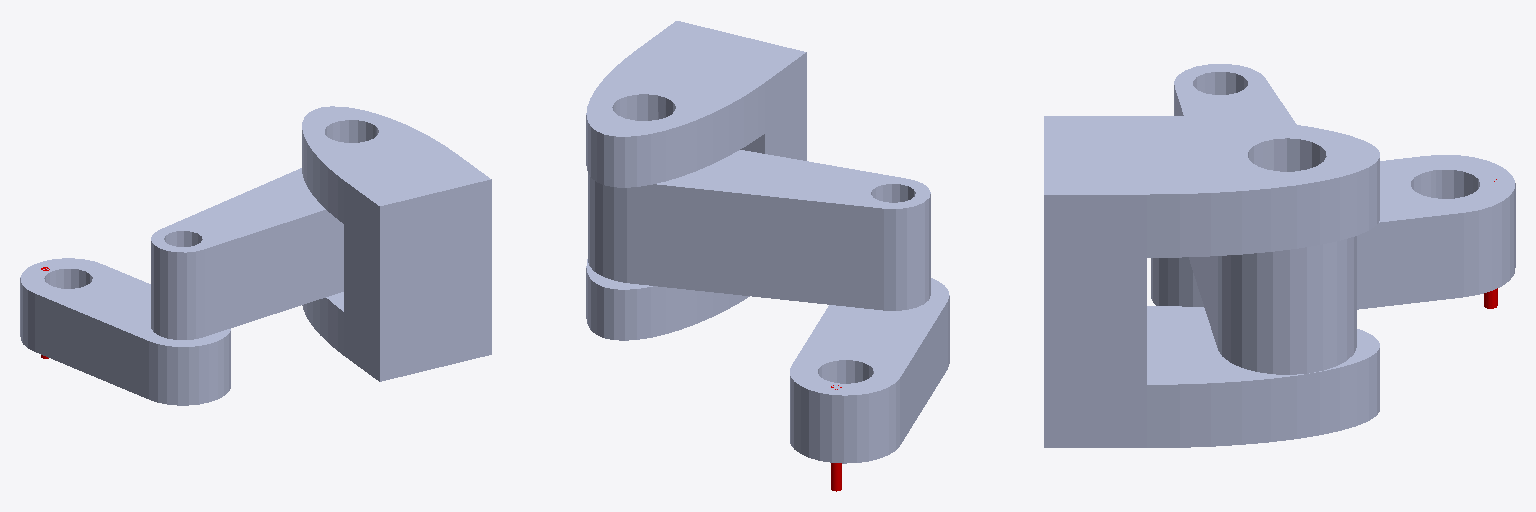
robot.urdf — 2rr:
<?xml version="1.0" encoding="utf-8"?>
<!-- This URDF was automatically created by SolidWorks to URDF Exporter! Originally created by [author] ([email redacted]) 
     Commit Version: 1.6.0-1-g15f4949  Build Version: 1.6.7594.29634
     For more information, please see http://wiki.ros.org/sw_urdf_exporter -->
<robot
  name="2rr">
      <!-- Colors --> 
    <material name="red">
        <color rgba="0.925 0 0 1"/>
    </material>

  <link name="world"/>

  <joint name="fixed" type="fixed">
    <parent link="world"/>
    <child link="base"/>
  </joint>

  <link
    name="base">
    <inertial>
      <origin
        xyz="0.199999712531253 0.243083213885683 0.299999282701517"
        rpy="0 0 0" />
      <mass
        value="93.1153809750007" />
      <inertia
        ixx="6.82321659280708"
        ixy="1.60309358254392E-05"
        ixz="-1.94703266181187E-06"
        iyy="4.86356688751049"
        iyz="1.986637125917E-05"
        izz="4.28554764294533" />
    </inertial>
    <visual>
      <origin
        xyz="0 0 0"
        rpy="0 0 0" />
      <geometry>
        <mesh
          filename="package://2rr/meshes/base.STL" />
      </geometry>
      <material
        name="">
        <color
          rgba="0.792156862745098 0.819607843137255 0.933333333333333 1" />
      </material>
    </visual>
    <collision>
      <origin
        xyz="0 0 0"
        rpy="0 0 0" />
      <geometry>
        <mesh
          filename="package://2rr/meshes/base.STL" />
      </geometry>
    </collision>
  </link>
  <link
    name="crank">
    <inertial>
      <origin
        xyz="-0.303528572159264 -3.90389536477076E-05 -5.55111512312578E-17"
        rpy="0 0 0" />
      <mass
        value="58.0525911841925" />
      <inertia
        ixx="0.77823635533177"
        ixy="0.000902613512986233"
        ixz="3.38994043004869E-17"
        iyy="3.79835542461403"
        iyz="-6.59086177629824E-18"
        izz="3.70580291218291" />
    </inertial>
    <visual>
      <origin
        xyz="0 0 0"
        rpy="0 0 0" />
      <geometry>
        <mesh
          filename="package://2rr/meshes/crank.STL" />
      </geometry>
      <material
        name="">
        <color
          rgba="0.792156862745098 0.819607843137255 0.933333333333333 1" />
      </material>
    </visual>
    <collision>
      <origin
        xyz="0 0 0"
        rpy="0 0 0" />
      <geometry>
        <mesh
          filename="package://2rr/meshes/crank.STL" />
      </geometry>
    </collision>
  </link>
  <joint
    name="R1"
    type="revolute">
    <origin
      xyz="0.2 0.52 0.3"
      rpy="0 0 0.20552" />
    <parent
      link="base" />
    <child
      link="crank" />
    <axis
      xyz="0 0 1" />
    <dynamics damping="0.1" friction="0"/>
<limit effort="300" lower="-0.523599" upper="0.523599" velocity="12"/>
<safety_controller k_position="100" k_velocity="100" soft_lower_limit="-10.5236" soft_upper_limit="10.5236"/>

  </joint>
  <link
    name="arm">
    <inertial>
      <origin
        xyz="5.55111512312578E-17 -0.25 -0.1"
        rpy="0 0 0" />
      <mass
        value="37.068583470577" />
      <inertia
        ixx="1.70992978035148"
        ixy="-4.16333634234434E-17"
        ixz="1.66703545697614E-18"
        iyy="0.418143313440416"
        iyz="4.64689549258995E-17"
        izz="1.88094920398805" />
    </inertial>
    <visual>
      <origin
        xyz="0 0 0"
        rpy="0 0 0" />
      <geometry>
        <mesh
          filename="package://2rr/meshes/arm.STL" />
      </geometry>
      <material
        name="">
        <color
          rgba="0.792156862745098 0.819607843137255 0.933333333333333 1" />
      </material>
    </visual>
    <collision>
      <origin
        xyz="0 0 0"
        rpy="0 0 0" />
      <geometry>
        <mesh
          filename="package://2rr/meshes/arm.STL" />
      </geometry>
    </collision>
  </link>
  <joint
    name="r2"
    type="revolute">
    <origin
      xyz="-0.7 0 -0.15"
      rpy="0 0 -3.0804" />
    <parent
      link="crank" />
    <child
      link="arm" />
    <axis
      xyz="0 0 -1" />
    <limit
      lower="-1.57"
      upper="1.57"
      effort="0"
      velocity="0" />
  </joint>
  
	<!-- endEffector -->
	<link name="EndEffector">
	<visual>
	    <geometry>
		<cylinder radius="0.015" length="0.30"/>
		<origin rpy="0 0 0" xyz="0 0 0.125"/>
	    </geometry>
	    <material name="red"/>
	</visual>
	<inertial> 
	    <mass value="0"/>
	    <inertia ixx="0" ixy="0" ixz="0" iyy="0" iyz="0" izz="0"/>
	</inertial> 
	</link>
  <joint
    name="r3"
    type="fixed">
    <origin
      xyz="0.0 -0.6 -0.15"
      rpy="0 0 -3.0804" />
    <parent
      link="arm" />
    <child
      link="EndEffector" />
    <axis
      xyz="0 0 -1" />
  </joint>


  <gazebo>
    <plugin name="object_controller" filename="libgazebo_ros_planar_move.so">
      <commandTopic>cmd_vel</commandTopic>
      <odometryTopic>odom</odometryTopic>
      <odometryFrame>odom</odometryFrame>
      <odometryRate>20.0</odometryRate>
      <robotBaseFrame>base</robotBaseFrame>
    </plugin>
  </gazebo>
</robot>

--- What the picture shows (computed from the rendered views, not written in the file) ---
3 views of the same robot in one strip: view 1: azimuth 30°, elevation 25°; view 2: azimuth 150°, elevation 25°; view 3: azimuth 270°, elevation 25° (orthographic).
Robot: 2rr — 5 links, 4 joints (2 revolute, 2 fixed); root link world; default pose: all joints at 0.
Links seen in each view (by area): view 1: base, crank, arm; view 2: crank, base, arm; view 3: base, crank, arm.
Boxes of the visible links, x1,y1,x2,y2 form: base: (302, 106, 491, 381); crank: (151, 168, 343, 339); arm: (20, 258, 230, 405); crank: (588, 150, 930, 310); base: (586, 21, 806, 340); arm: (790, 278, 949, 463); base: (1044, 116, 1379, 447); crank: (1174, 64, 1356, 374); arm: (1151, 155, 1515, 309).
Size in the robot's own frame: 1.17 by 1.01 by 0.75 metres.
3 mesh visuals loaded from 3 distinct referenced files (3 binary STL).
